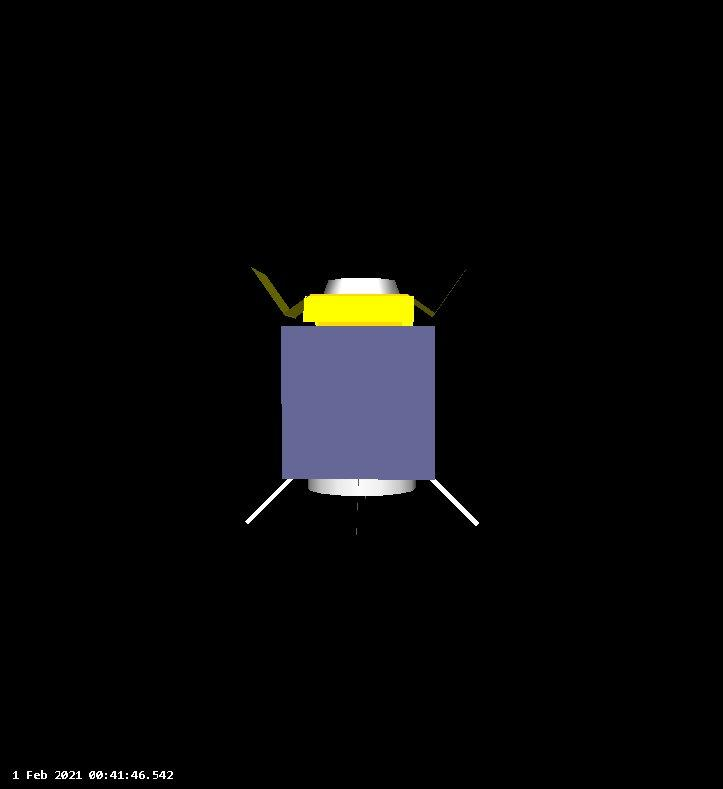antenna: (305, 479, 417, 497)
body: (278, 320, 439, 483)
solar: (242, 258, 293, 317), (418, 267, 465, 323)
